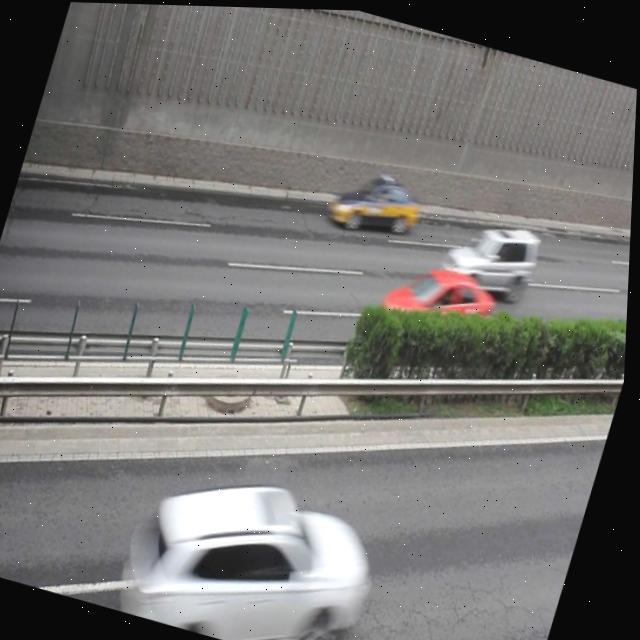car: (119, 447, 391, 640), (372, 248, 502, 359), (439, 204, 546, 303), (325, 159, 427, 246)
